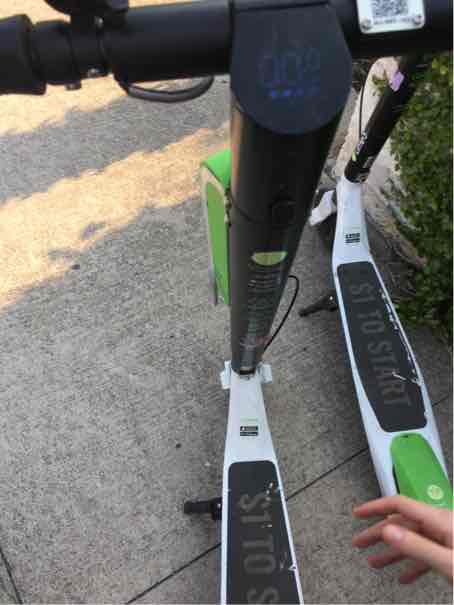scooter: (2, 8, 415, 605)
